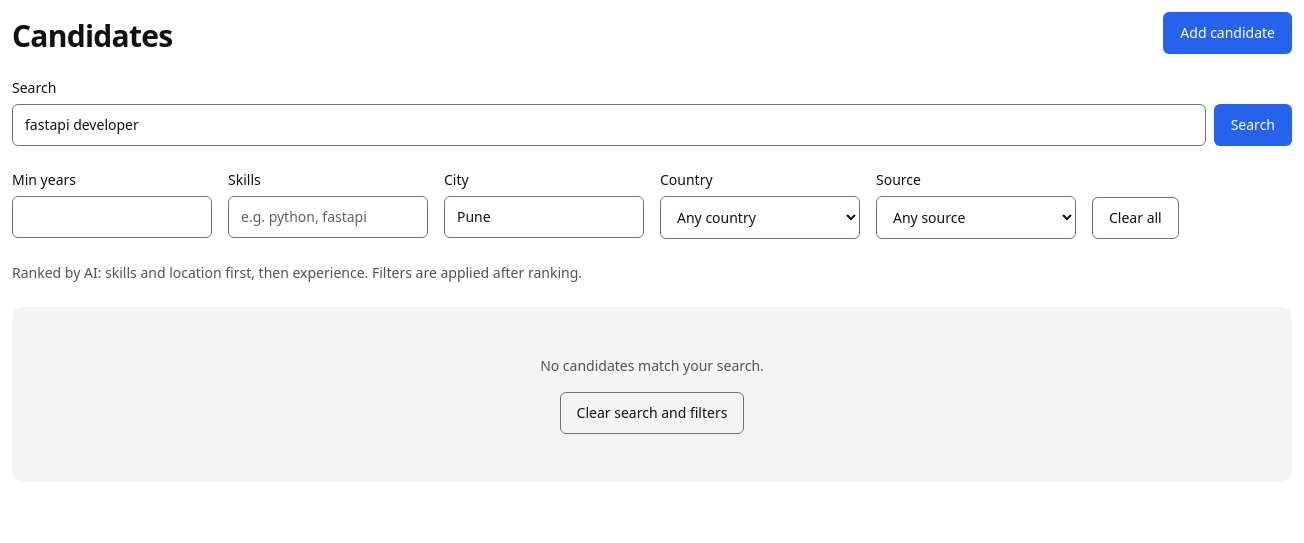
Test case: CandidateSearchPage › applies changed filters to a search only when Search is pressed again
Replace the text in the field labelled "City" with "Delhi" at (544, 217), box [444,196,644,238]
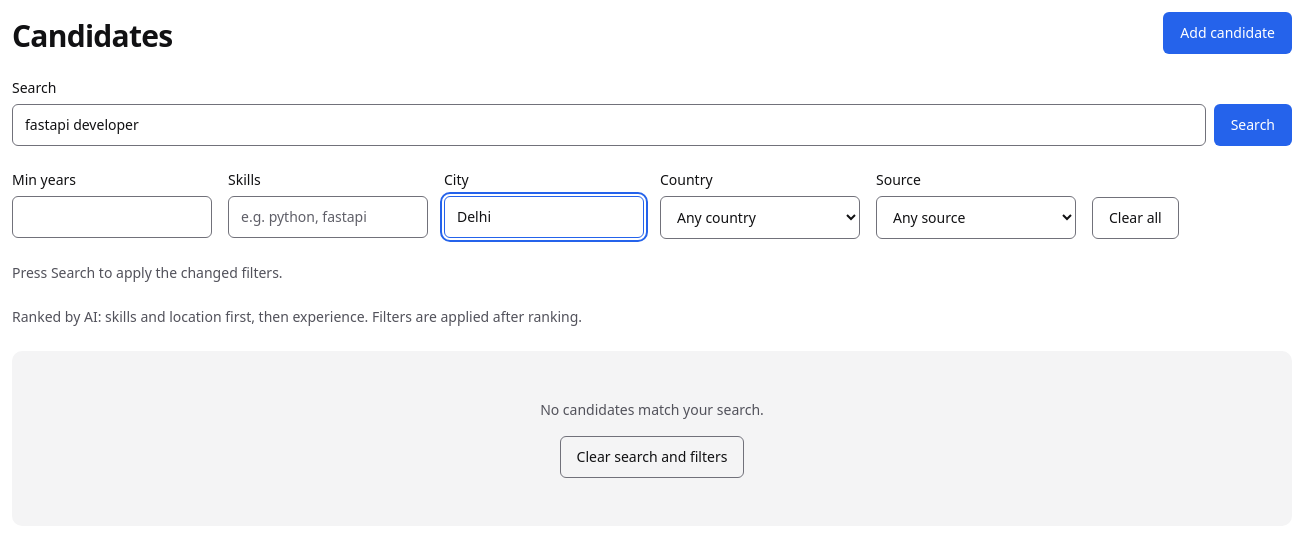
Result: the text "Press Search to apply the changed filters." is shown at [12,263,283,282]
Click the button "Search" at (1253, 125), box [1214,104,1292,146]
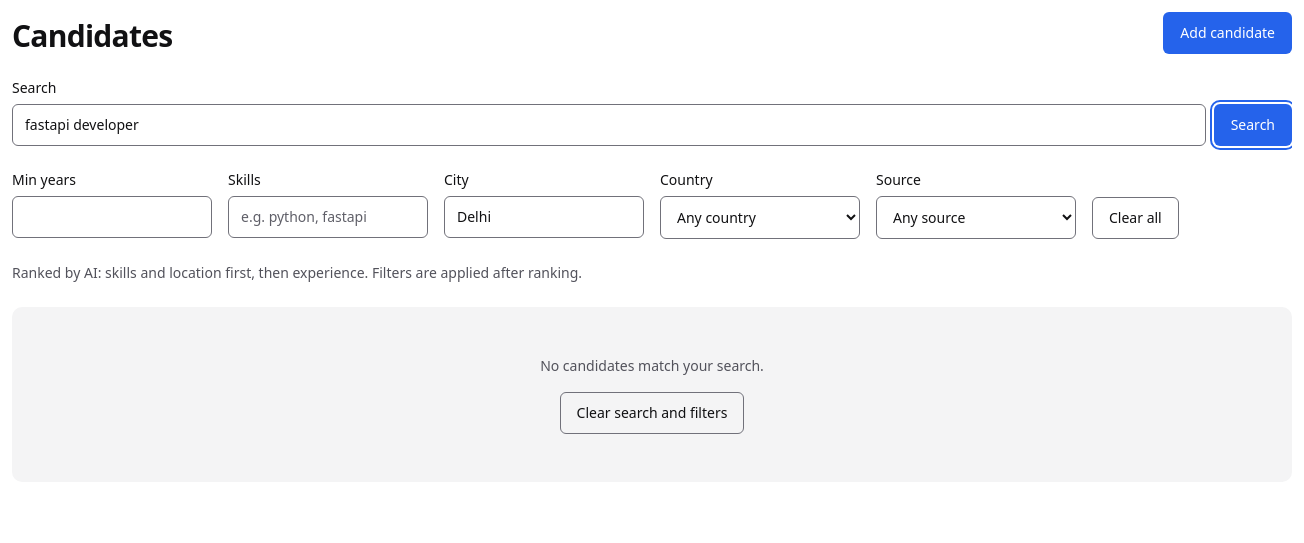
Result: the text "Press Search to apply the changed filters." is gone
